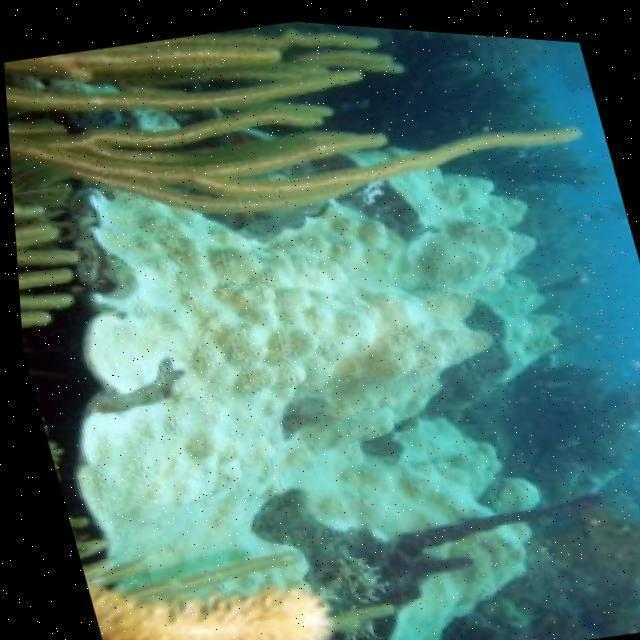Bleached Coral: (90, 201, 562, 580)
